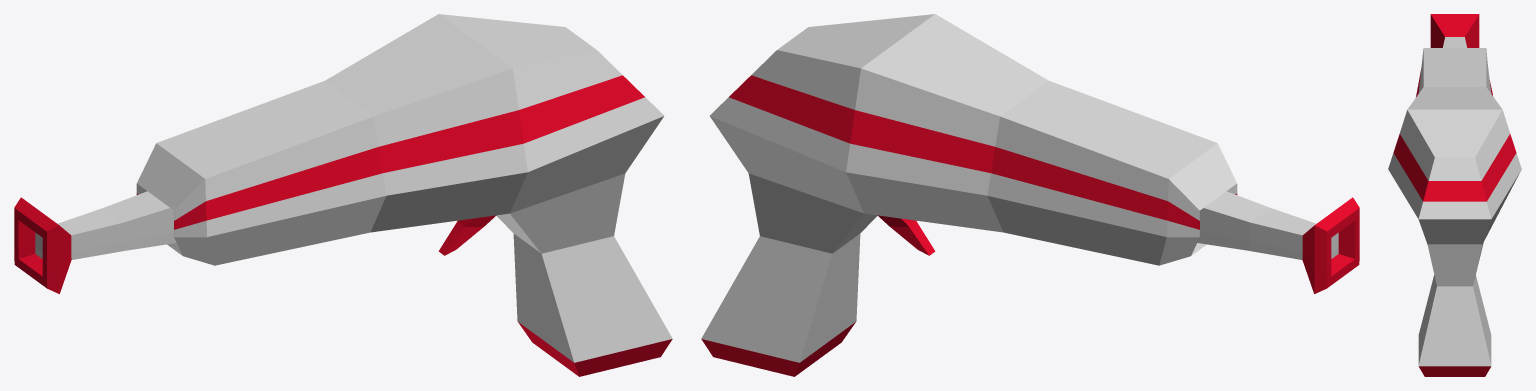
Rendered from pistol_laser.fbx.
3 renders of one model, left to right at view 1: azimuth 30°, elevation 25°; view 2: azimuth 150°, elevation 25°; view 3: azimuth 270°, elevation 25°, orthographic. The views are drawn at different scales.
Visible parts, largest first — view 1: Cube; view 2: Cube; view 3: Cube.
Part boxes in pixels (x1=…): Cube: x1=14, y1=14, x2=672, y2=376; Cube: x1=701, y1=14, x2=1359, y2=376; Cube: x1=1388, y1=14, x2=1521, y2=376.
Size of the model in its own units: 1247 by 656 by 367.
